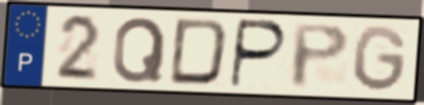2: (54, 12, 103, 84)
D: (166, 17, 232, 88)
G: (352, 23, 410, 94)
P: (227, 17, 290, 91), (290, 22, 353, 91)
Q: (110, 15, 169, 85)
